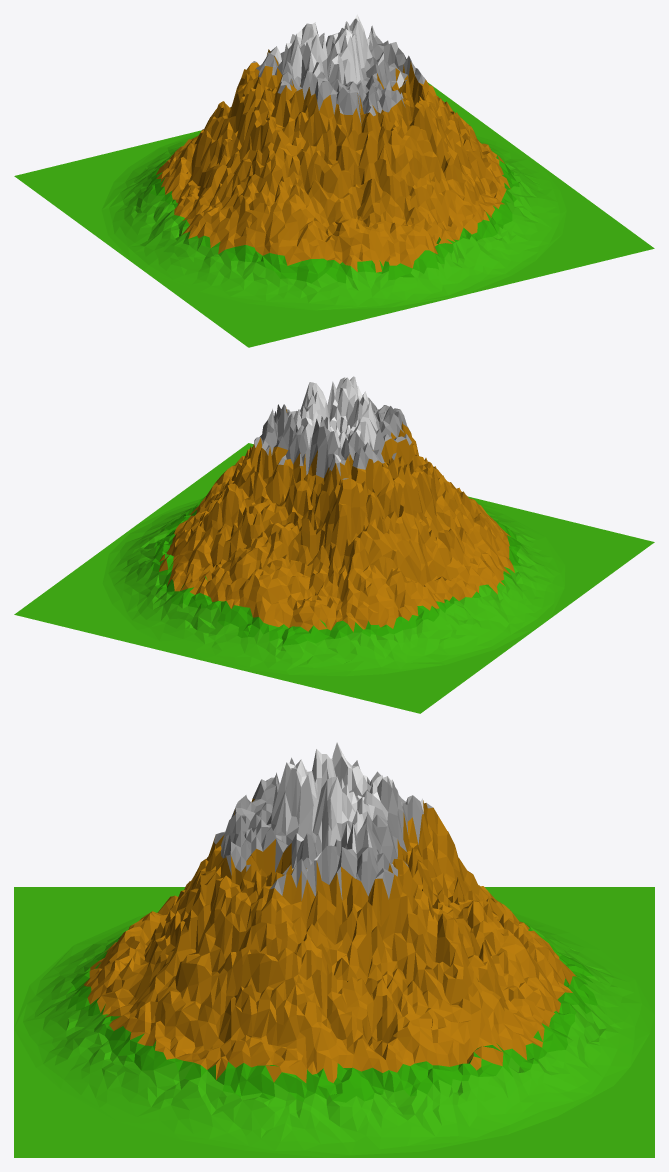
The picture shows the model from 3 angles, top to bottom: view 1: azimuth 30°, elevation 25°; view 2: azimuth 150°, elevation 25°; view 3: azimuth 270°, elevation 25°; orthographic projection. The views are drawn at different scales.
Parts seen in each view (by area): view 1: Landscape.001; view 2: Landscape.001; view 3: Landscape.001.
Boxes of the visible parts, x1,y1,x2,y2 form: Landscape.001: (14,14,654,347); Landscape.001: (14,376,654,713); Landscape.001: (14,742,654,1157).
Size of the model in its own units: 4 by 1.81 by 4.
